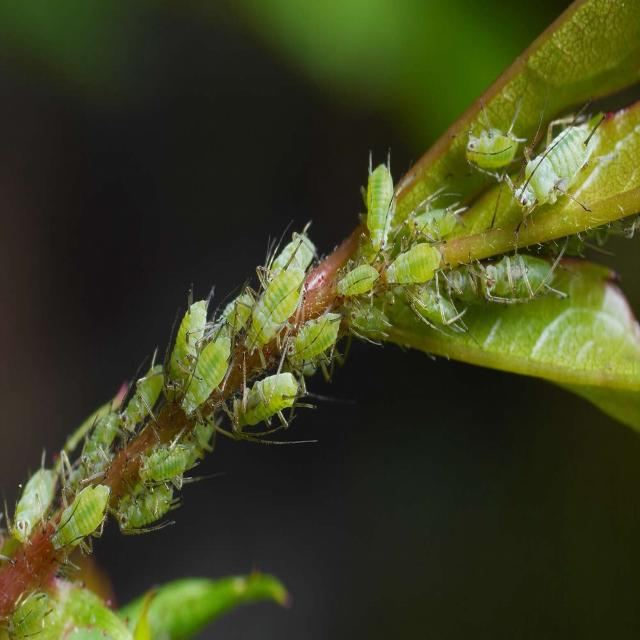Aphid-Grouped-: (8, 233, 319, 558)
Aphid-Grown-: (511, 110, 615, 222), (227, 357, 314, 441), (243, 255, 311, 362), (456, 107, 528, 198), (40, 477, 113, 564), (178, 314, 233, 422), (128, 424, 200, 496), (480, 249, 568, 304), (109, 478, 189, 538), (384, 228, 450, 292), (361, 151, 401, 253), (286, 310, 346, 376), (328, 246, 387, 304), (119, 363, 165, 437), (338, 292, 395, 347)
